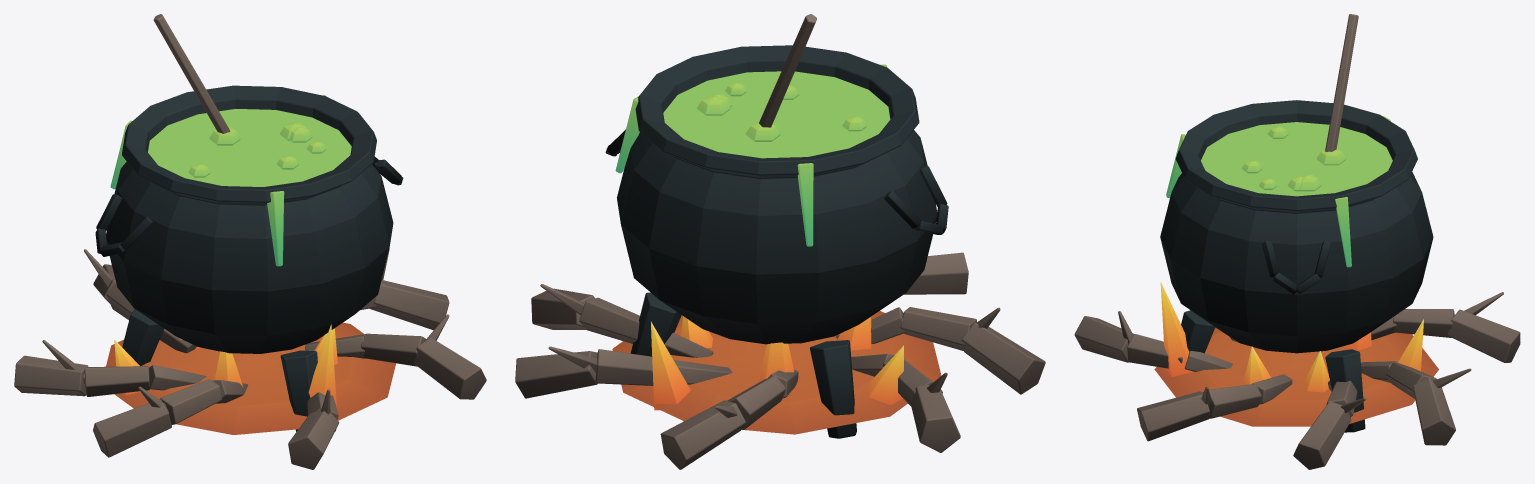
The model's file is witch_cauldron.glb.
The picture shows the model from 3 angles, left to right: view 1: azimuth 30°, elevation 25°; view 2: azimuth 150°, elevation 25°; view 3: azimuth 270°, elevation 25°; orthographic projection. The views are drawn at different scales.
Parts seen in each view (by area): view 1: witch_cauldron; view 2: witch_cauldron; view 3: witch_cauldron.
Part boxes in pixels (left/top/right/bottom): witch_cauldron: left=14, top=14, right=486, bottom=469; witch_cauldron: left=515, top=14, right=1045, bottom=469; witch_cauldron: left=1074, top=14, right=1520, bottom=469.
Bounding box in the file's own units: 2.34 × 2.03 × 2.35.
Materials: 3 (3 with a texture image).
